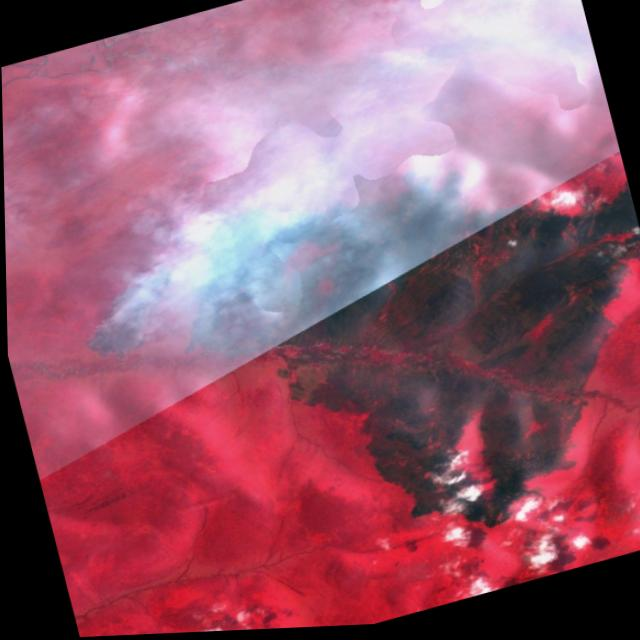fire: (57, 195, 315, 374)
